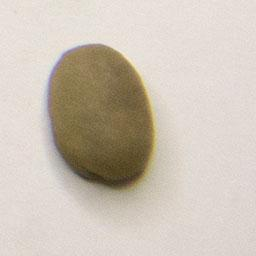premium: (45, 41, 157, 186)
